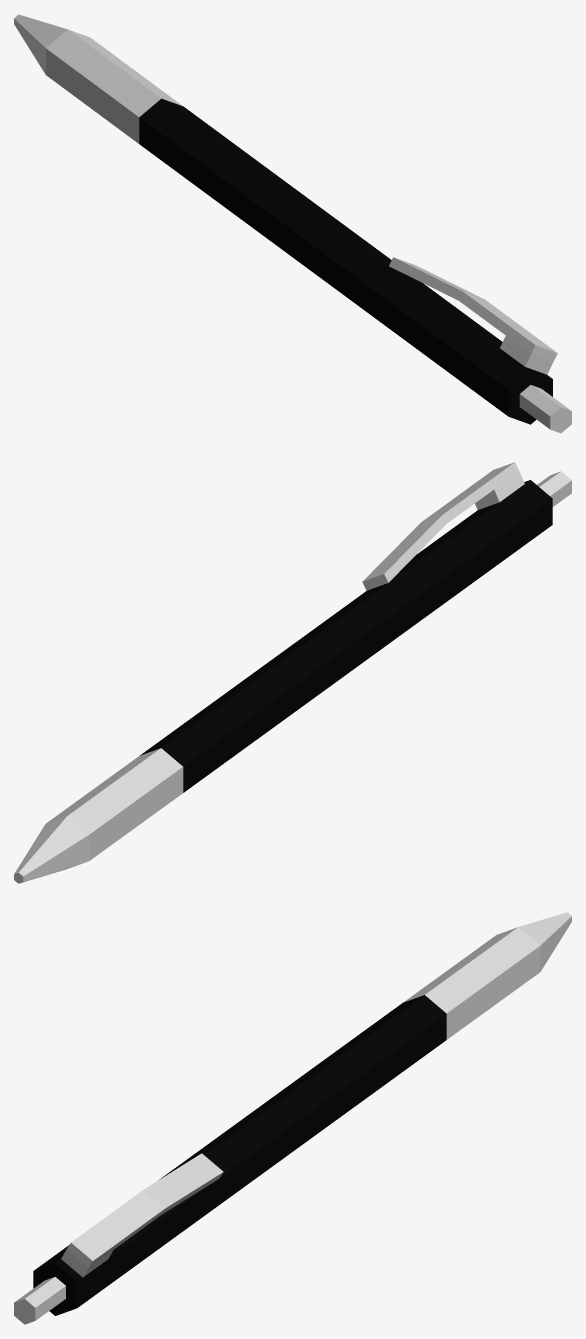
Rendered from P_Pen_Black.fbx.
3 views of the same model, one above another, from view 1: azimuth 30°, elevation 25°; view 2: azimuth 150°, elevation 25°; view 3: azimuth 330°, elevation 25° (orthographic).
Parts seen in each view (by area): view 1: P_Pen_Black; view 2: P_Pen_Black; view 3: P_Pen_Black.
Boxes of the visible parts, <box> form: P_Pen_Black: <box>14,14,571,433</box>; P_Pen_Black: <box>14,462,571,883</box>; P_Pen_Black: <box>14,912,571,1324</box>.
Size of the model in its own units: 7.79 by 134 by 9.87.
